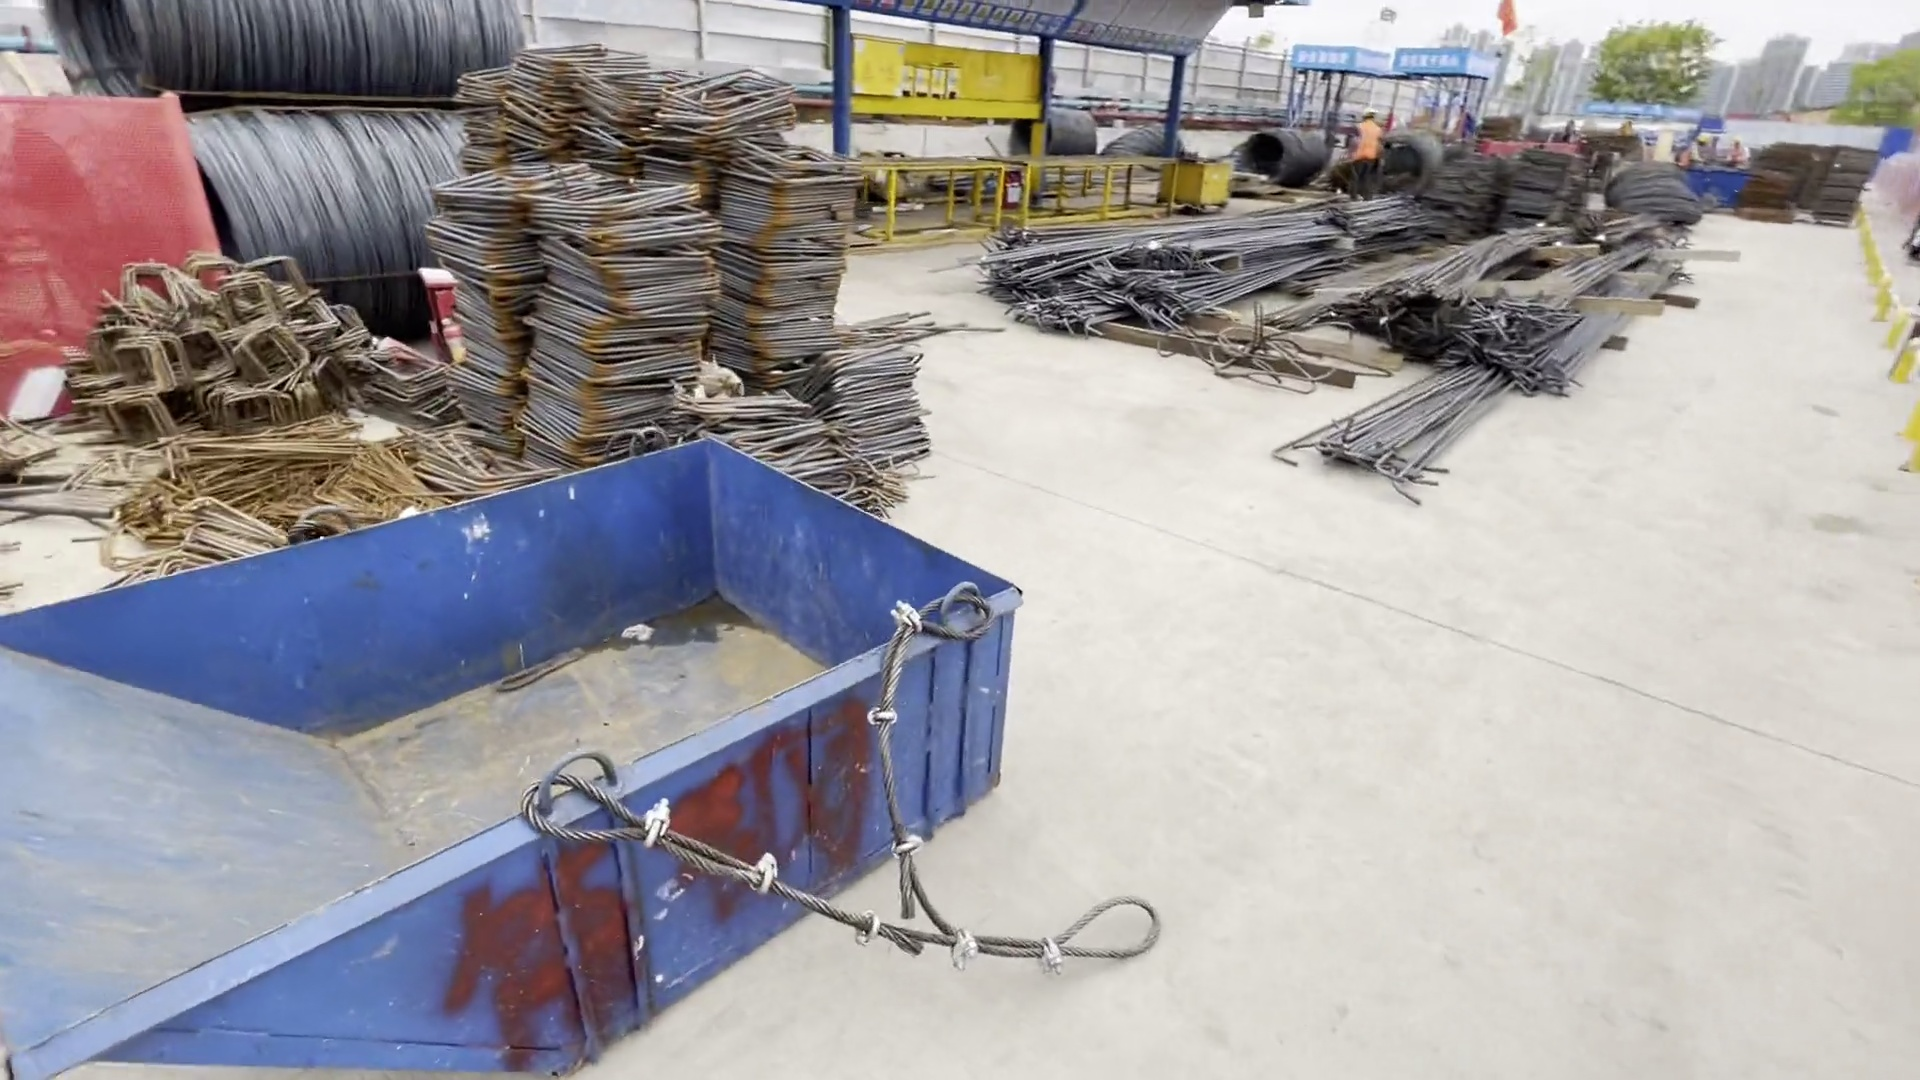ebox: (835, 40, 963, 107)
fence: (1, 88, 262, 398)
hopper: (1, 427, 1044, 1079)
person: (1346, 111, 1384, 213)
rebar: (1303, 217, 1731, 489), (1002, 190, 1445, 337)
vest: (1351, 121, 1377, 158)
